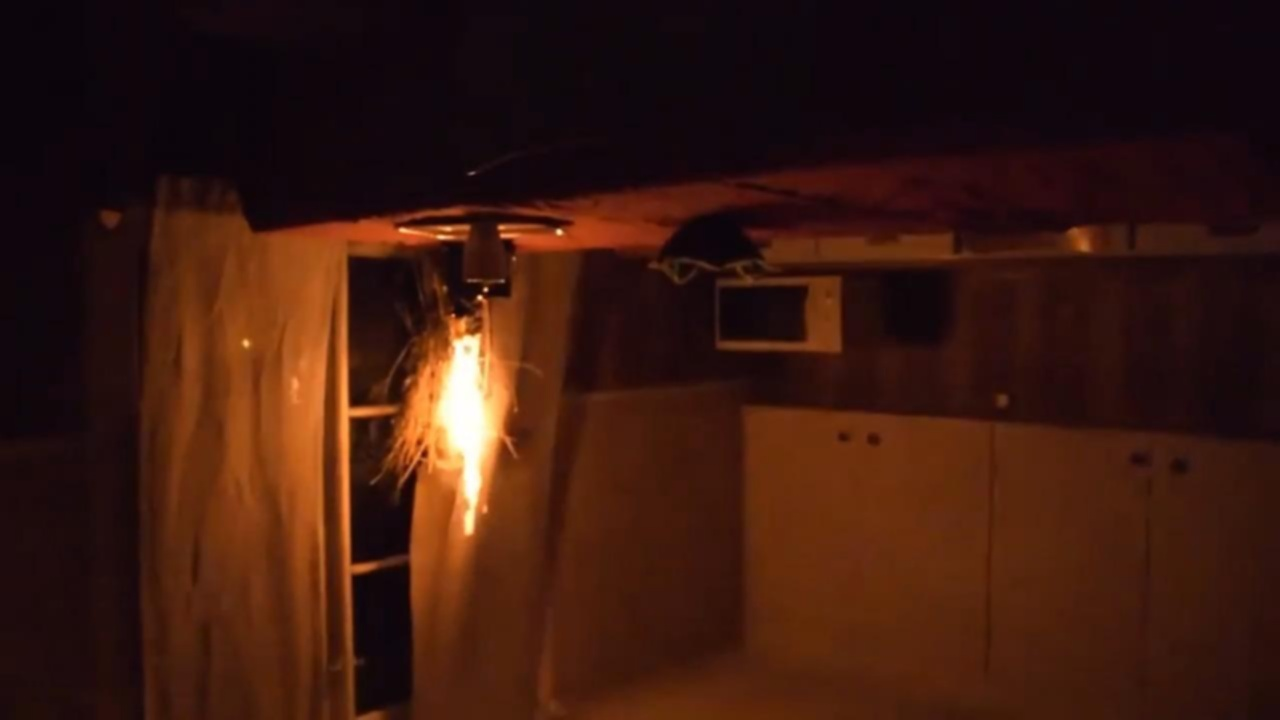fire: (368, 287, 559, 575)
